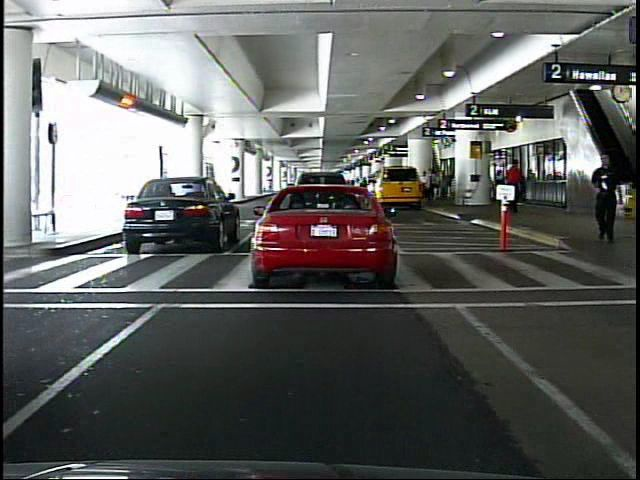person: (588, 152, 618, 247), (505, 159, 524, 214), (420, 165, 433, 202)
